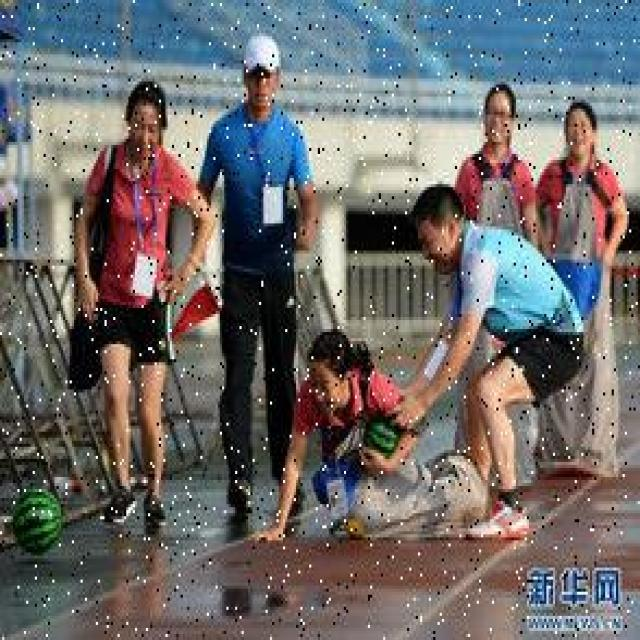fall: (262, 326, 478, 531)
